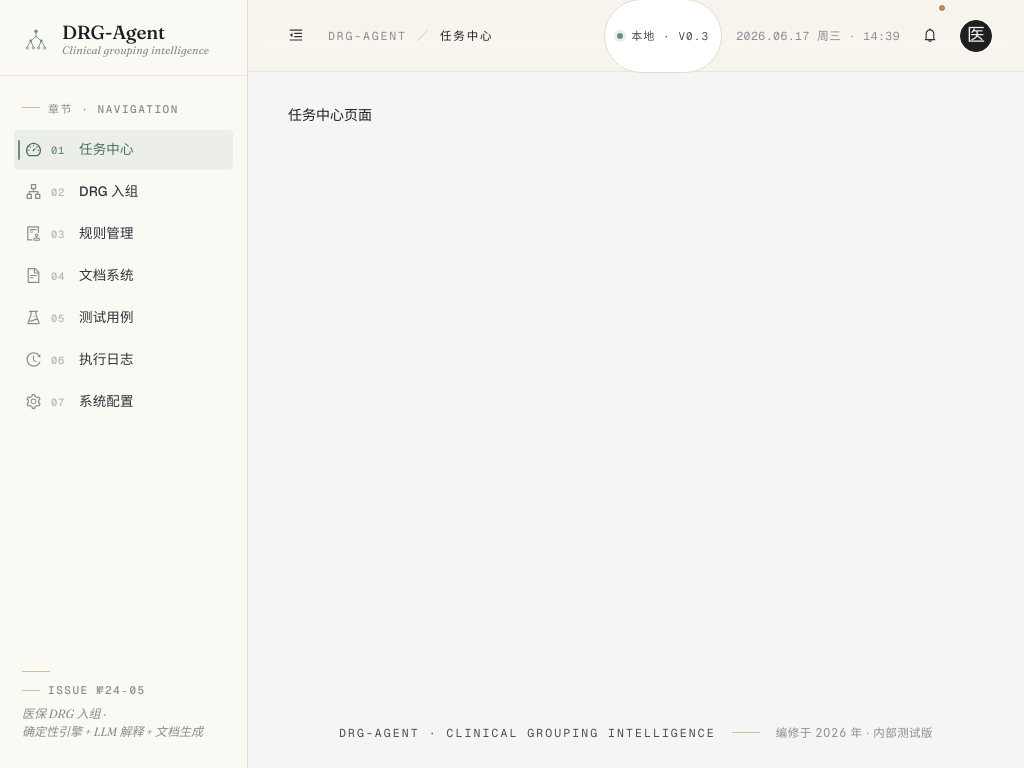
Scenario: AppLayout › can collapse the sider
Click the button named "收起导航": (296, 36) [280, 20, 312, 52]
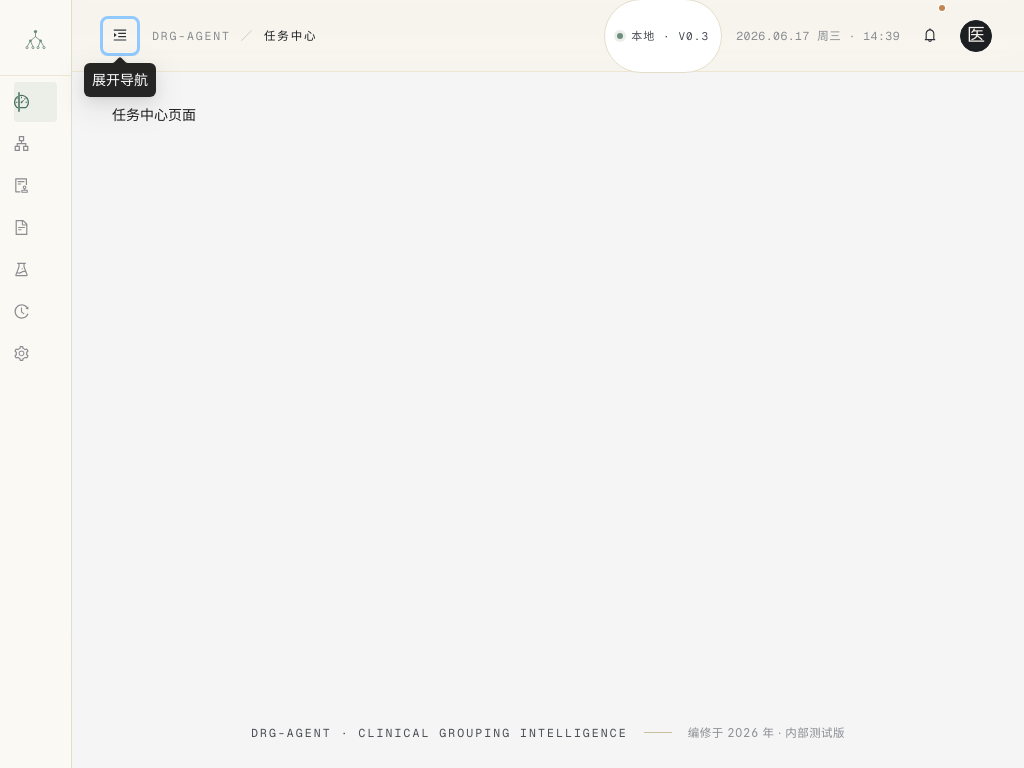
expect the button named "展开导航" is shown: met, box [104, 20, 136, 52]
